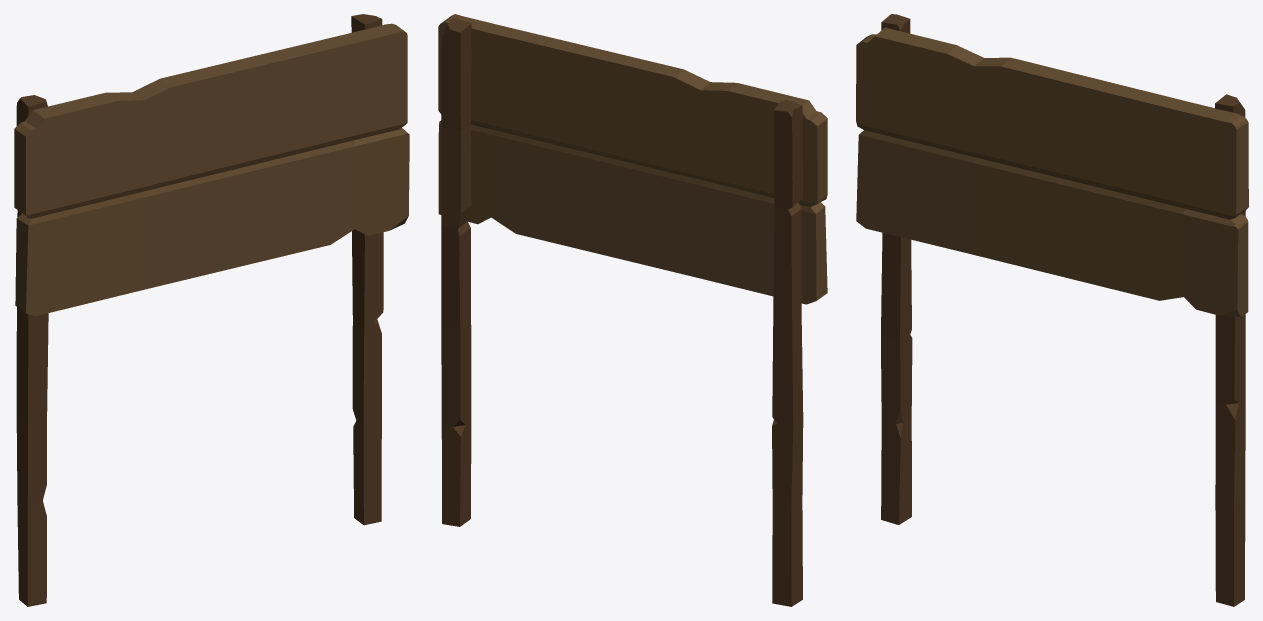
The model's file is Sign.fbx.
3 views of the same model, side by side, from view 1: azimuth 30°, elevation 25°; view 2: azimuth 150°, elevation 25°; view 3: azimuth 330°, elevation 25° (orthographic).
Parts seen in each view (by area): view 1: Sign; view 2: Sign; view 3: Sign.
Part boxes in pixels (x1,y1,x2,y2): Sign: [14, 14, 409, 606]; Sign: [438, 14, 827, 606]; Sign: [856, 14, 1248, 606].
Size of the model in its own units: 201 by 251 by 21.84.
